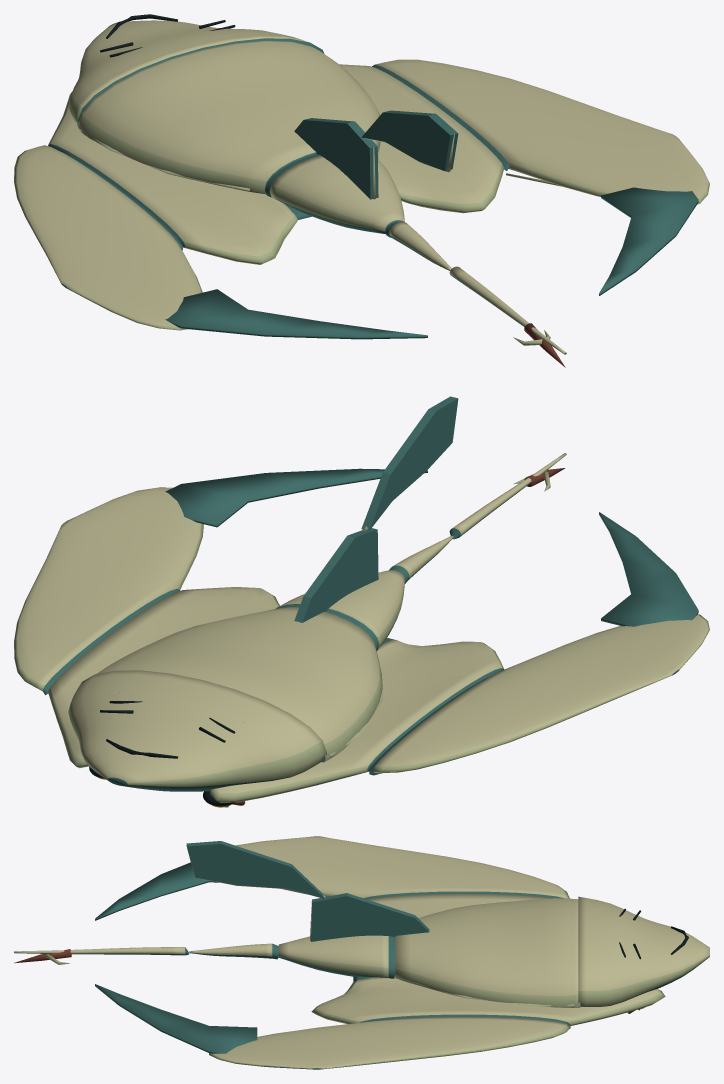
The model's file is stingers.glb.
3 views of the same model, one above another, from view 1: azimuth 30°, elevation 25°; view 2: azimuth 150°, elevation 25°; view 3: azimuth 270°, elevation 25° (orthographic). The views are drawn at different scales.
Parts seen in each view (by area): view 1: Stinger.0.03.tapered dorsal body, Stinger.0.15.swept outer pectoral fin, Stinger.0.18.swept outer pectoral fin, Stinger.0.17.cambered pectoral fin root, Stinger.0.14.cambered pectoral fin root, Stinger.0.12.flattened ray head, Stinger.0.04.muscular tail root, Stinger.0.18.tapered trailing fin lobe, Stinger.0.15.tapered trailing fin lobe, Stinger.0.09.swept dorsal fin, Stinger.0.10.swept dorsal fin, Stinger.0.06.flexible tapered tail (+2 smaller); view 2: Stinger.0.12.flattened ray head, Stinger.0.15.swept outer pectoral fin, Stinger.0.03.tapered dorsal body, Stinger.0.18.swept outer pectoral fin, Stinger.0.17.cambered pectoral fin root, Stinger.0.14.cambered pectoral fin root, Stinger.0.15.tapered trailing fin lobe, Stinger.0.18.tapered trailing fin lobe, Stinger.0.10.swept dorsal fin, Stinger.0.09.swept dorsal fin, Stinger.0.04.muscular tail root, Stinger.0.06.flexible tapered tail (+2 smaller); view 3: Stinger.0.03.tapered dorsal body, Stinger.0.15.swept outer pectoral fin, Stinger.0.18.swept outer pectoral fin, Stinger.0.12.flattened ray head, Stinger.0.14.cambered pectoral fin root, Stinger.0.10.swept dorsal fin, Stinger.0.09.swept dorsal fin, Stinger.0.04.muscular tail root, Stinger.0.15.tapered trailing fin lobe, Stinger.0.17.cambered pectoral fin root, Stinger.0.18.tapered trailing fin lobe, Stinger.0.06.flexible tapered tail (+2 smaller).
Part boxes in pixels (box(x1,y1,x2,y2)): Stinger.0.03.tapered dorsal body: box(77, 40, 380, 194); Stinger.0.15.swept outer pectoral fin: box(375, 59, 709, 204); Stinger.0.18.swept outer pectoral fin: box(14, 145, 202, 330); Stinger.0.17.cambered pectoral fin root: box(48, 91, 297, 264); Stinger.0.14.cambered pectoral fin root: box(339, 64, 504, 213); Stinger.0.12.flattened ray head: box(68, 20, 324, 123); Stinger.0.04.muscular tail root: box(269, 155, 404, 233); Stinger.0.18.tapered trailing fin lobe: box(165, 289, 427, 339); Stinger.0.15.tapered trailing fin lobe: box(599, 187, 698, 295); Stinger.0.09.swept dorsal fin: box(294, 118, 378, 199); Stinger.0.10.swept dorsal fin: box(361, 110, 458, 171); Stinger.0.06.flexible tapered tail: box(449, 266, 566, 354); Stinger.0.12.flattened ray head: box(68, 670, 326, 791); Stinger.0.15.swept outer pectoral fin: box(14, 487, 203, 690); Stinger.0.03.tapered dorsal body: box(96, 607, 382, 762); Stinger.0.18.swept outer pectoral fin: box(372, 614, 709, 772); Stinger.0.17.cambered pectoral fin root: box(210, 639, 504, 802); Stinger.0.14.cambered pectoral fin root: box(48, 587, 279, 768); Stinger.0.15.tapered trailing fin lobe: box(165, 468, 427, 527); Stinger.0.18.tapered trailing fin lobe: box(599, 512, 698, 626); Stinger.0.10.swept dorsal fin: box(361, 396, 458, 530); Stinger.0.09.swept dorsal fin: box(294, 528, 378, 622); Stinger.0.04.muscular tail root: box(278, 570, 405, 649); Stinger.0.06.flexible tapered tail: box(452, 453, 566, 535); Stinger.0.03.tapered dorsal body: box(395, 898, 580, 1007); Stinger.0.15.swept outer pectoral fin: box(209, 1016, 570, 1069); Stinger.0.18.swept outer pectoral fin: box(235, 836, 569, 898); Stinger.0.12.flattened ray head: box(578, 896, 709, 1006); Stinger.0.14.cambered pectoral fin root: box(311, 976, 665, 1025); Stinger.0.10.swept dorsal fin: box(186, 841, 325, 898); Stinger.0.09.swept dorsal fin: box(311, 893, 429, 941); Stinger.0.04.muscular tail root: box(278, 935, 388, 977); Stinger.0.15.tapered trailing fin lobe: box(95, 984, 257, 1053); Stinger.0.17.cambered pectoral fin root: box(367, 893, 552, 917); Stinger.0.18.tapered trailing fin lobe: box(95, 862, 218, 920); Stinger.0.06.flexible tapered tail: box(14, 947, 185, 955).
Bounding box in the file's own units: 91.3 × 28.47 × 116.
